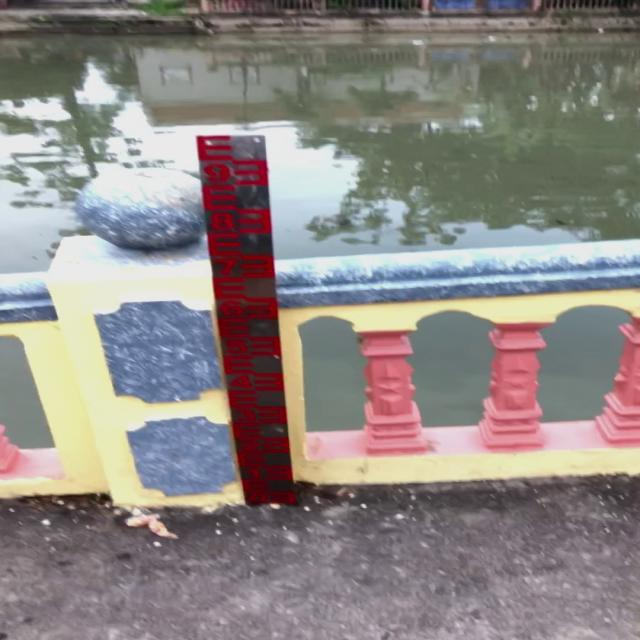ruler: (192, 119, 307, 519)
value: (201, 158, 236, 187), (206, 207, 238, 235), (210, 254, 242, 281), (214, 297, 247, 321), (221, 336, 253, 356), (227, 372, 256, 393)
